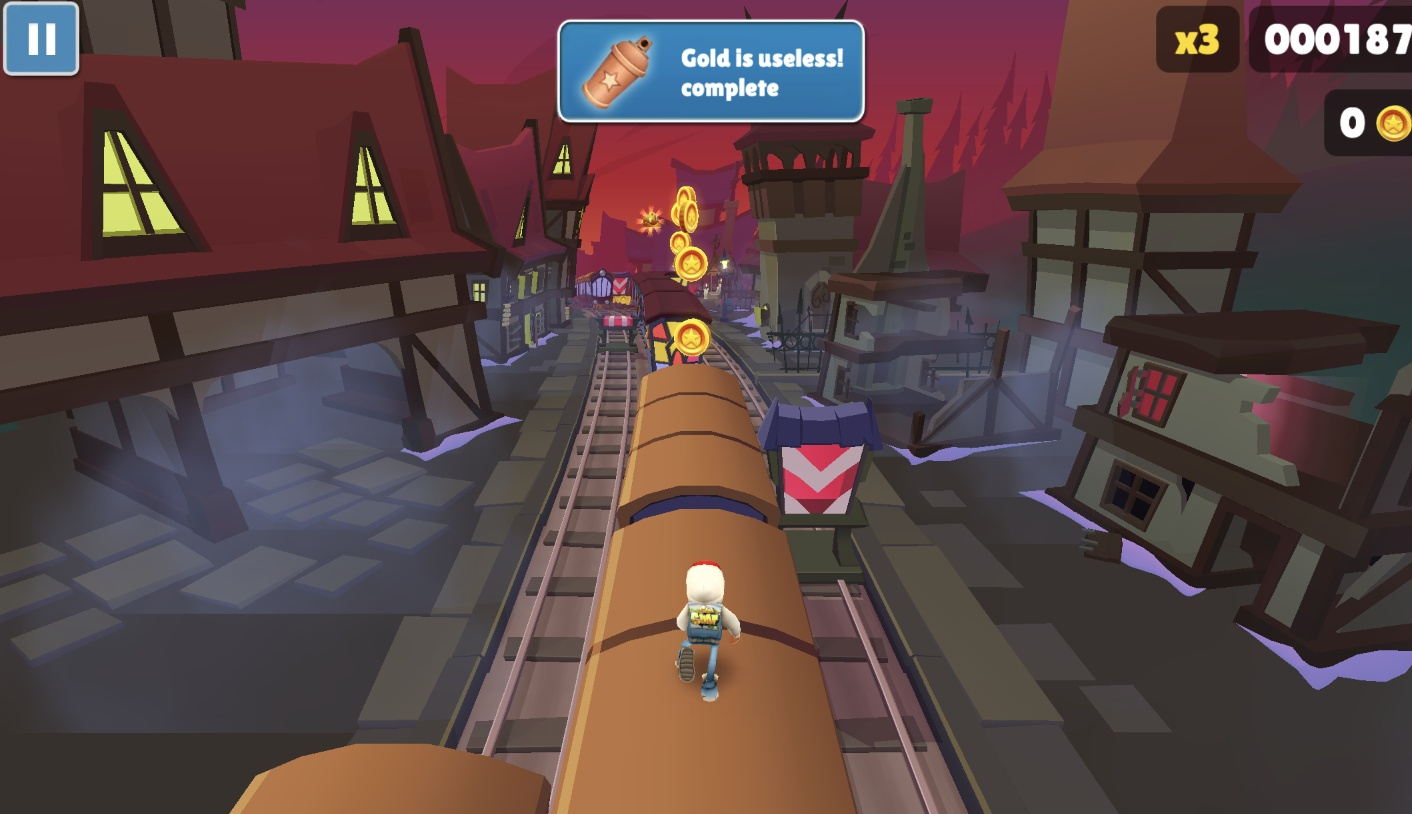ground_barrier: (594, 315, 640, 355)
overhead_barrier: (758, 402, 883, 574), (618, 276, 637, 307)
train: (548, 382, 859, 814), (239, 733, 562, 814), (632, 276, 711, 389), (575, 271, 615, 312)
